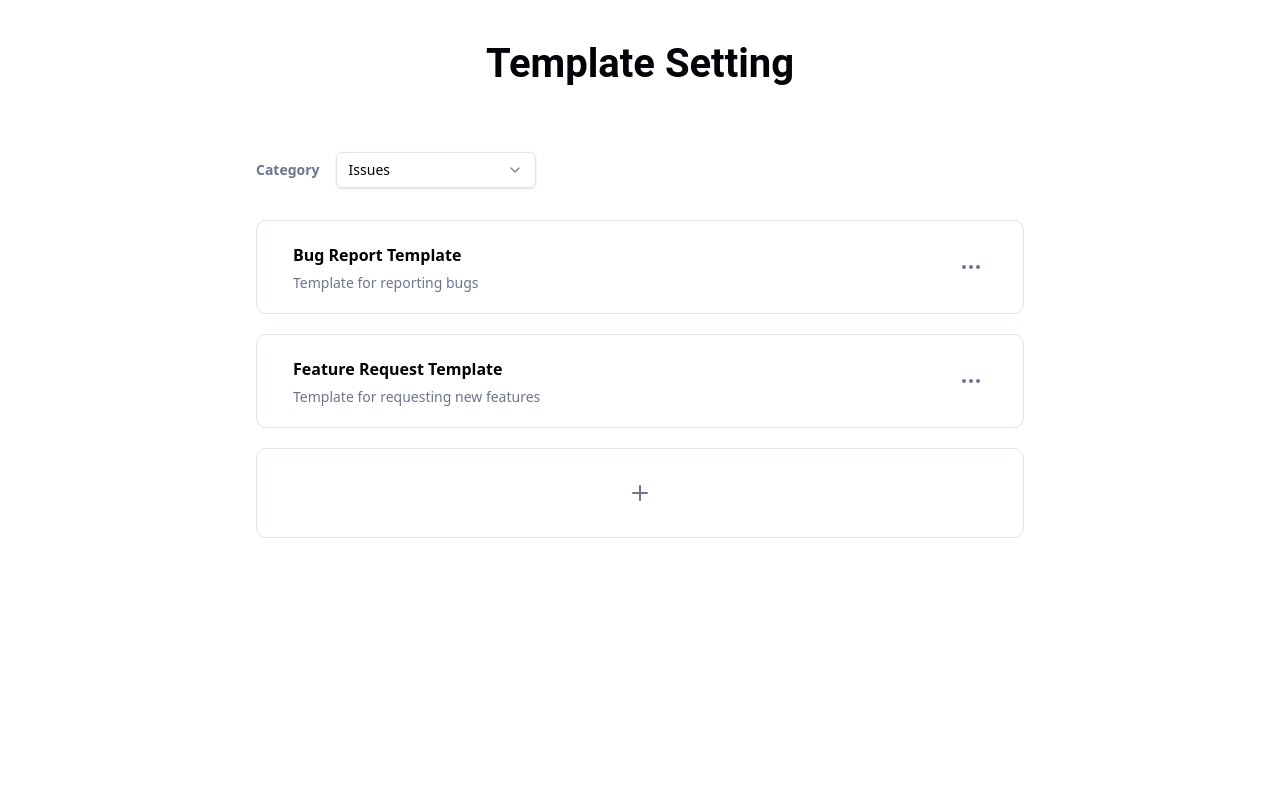
Test case: ProjectTemplateSetting Page - 통합 테스트 › 템플릿 삭제 기능 › 템플릿을 삭제할 수 있다
Expected: the text "Bug Report Template" is shown, [293,241,479,269]
Click the button without text in the row of "Template for reporting bugs" at (971, 267), box [955,251,987,283]
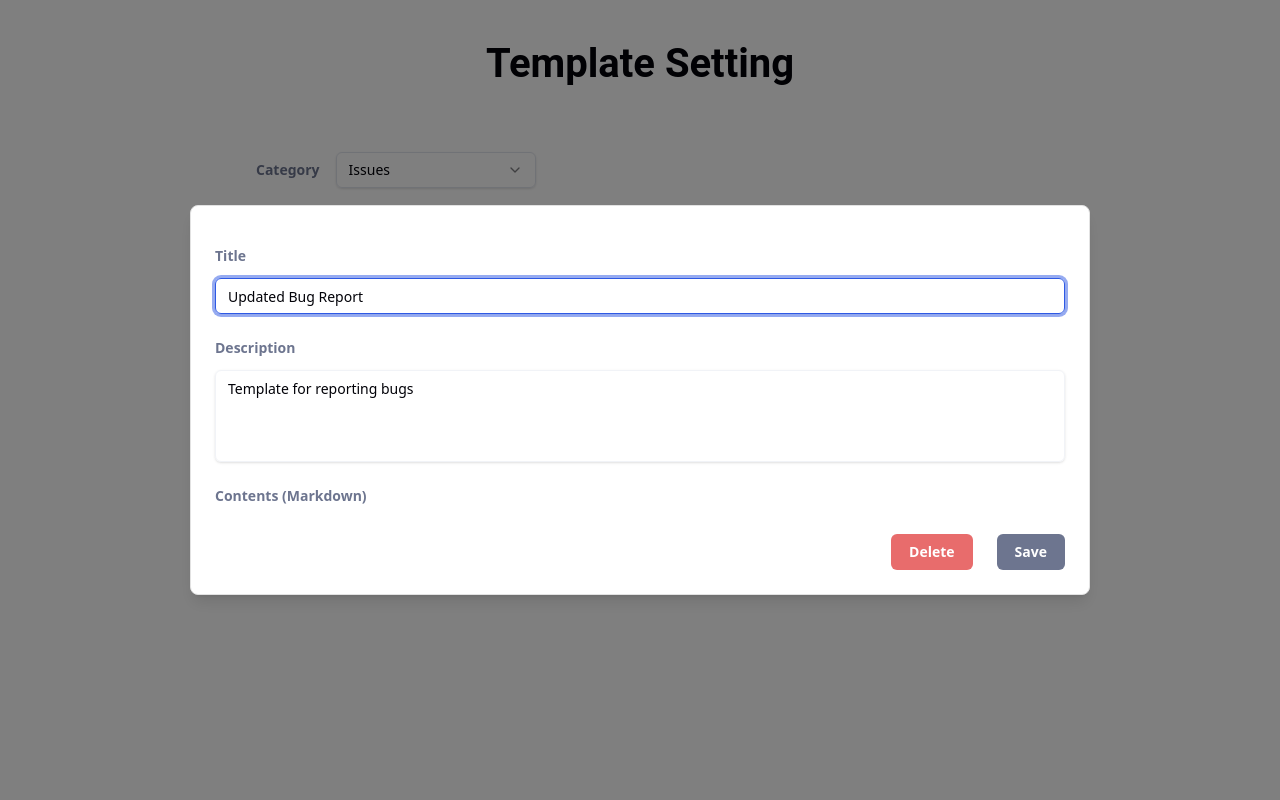
// Delete 버튼 클릭
Click the button "Delete" at (932, 552), box [891,534,972,570]
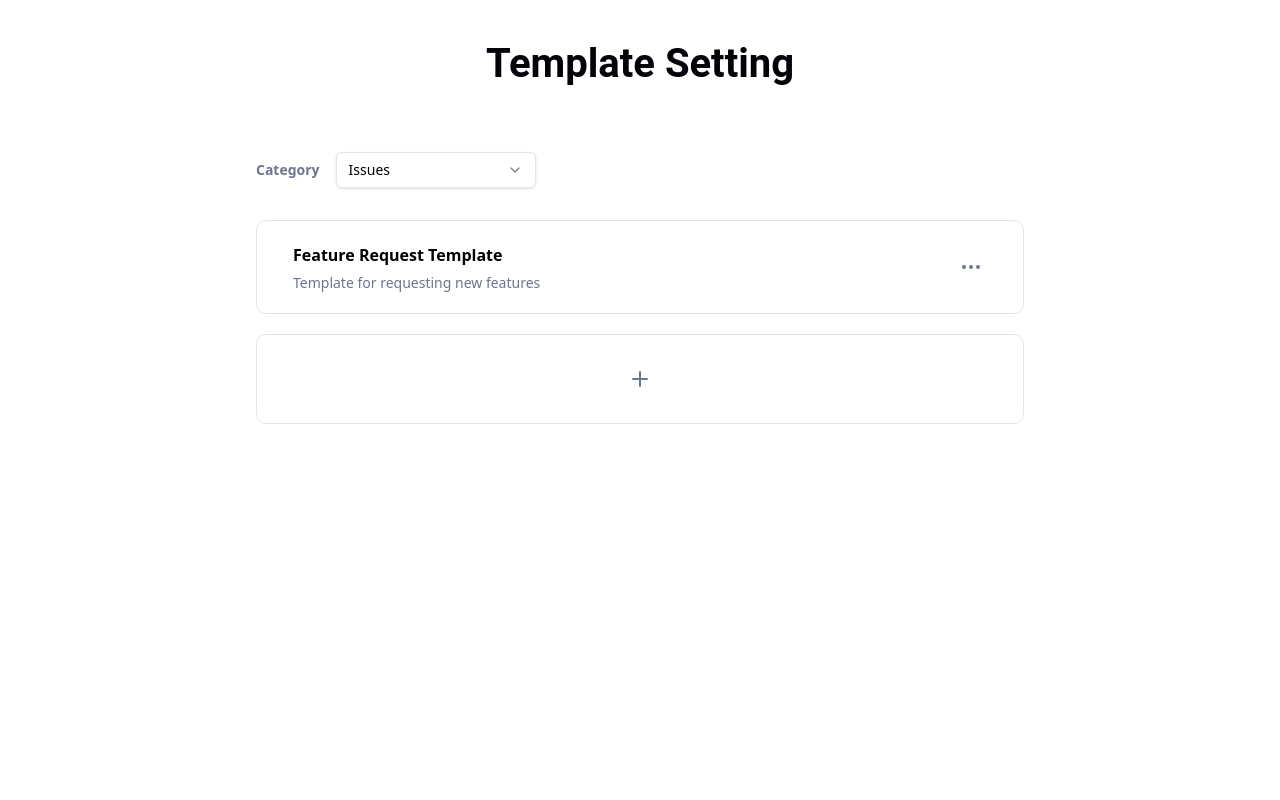
Result: the text "Bug Report Template" is gone
